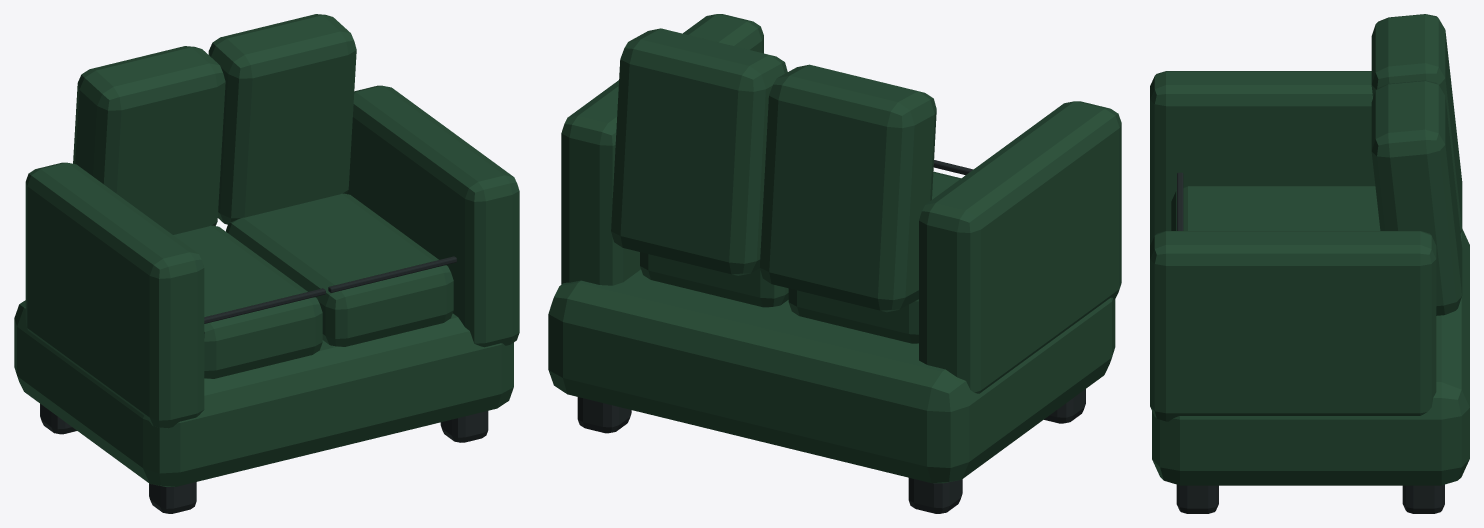
The model's file is better.glb.
3 renders of one model, left to right at view 1: azimuth 30°, elevation 25°; view 2: azimuth 150°, elevation 25°; view 3: azimuth 270°, elevation 25°, orthographic. The views are drawn at different scales.
Parts seen in each view (by area): view 1: Armrest, Sofa foot; view 2: Armrest, Sofa foot; view 3: Armrest, Sofa foot.
Boxes of the visible parts, box(x1,y1,x2,y2) form: Armrest: box(14, 14, 519, 486); Sofa foot: box(40, 256, 488, 513); Armrest: box(548, 14, 1121, 483); Sofa foot: box(577, 160, 1085, 513); Armrest: box(1150, 14, 1469, 485); Sofa foot: box(1176, 172, 1444, 513).
Size of the model in its own units: 1 by 0.907 by 0.724.
